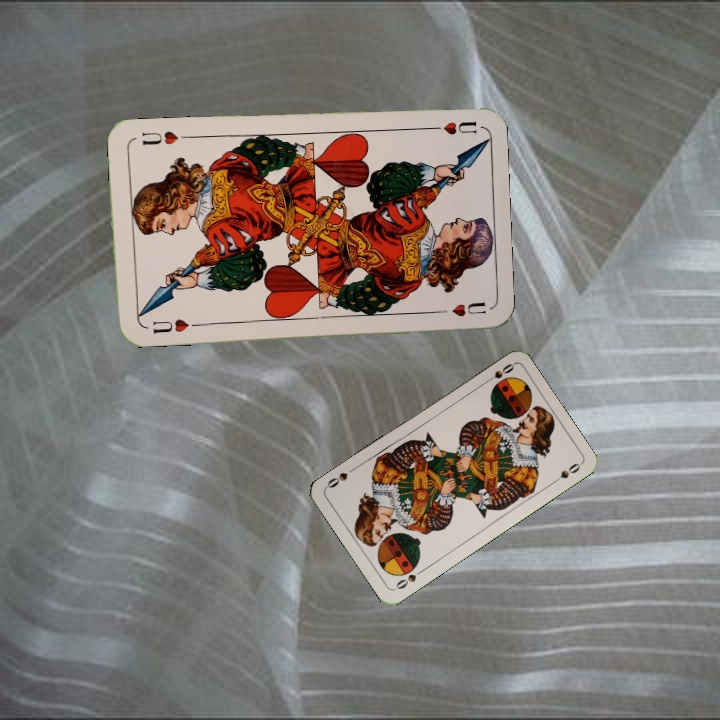HU: (422, 117, 480, 138), (148, 315, 199, 336)
SO: (480, 359, 517, 387), (391, 565, 427, 593)
